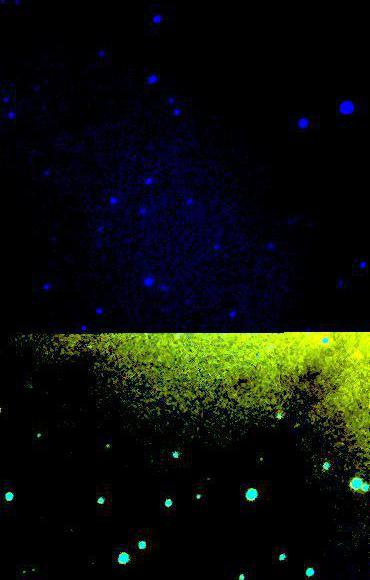star: (247, 447, 277, 477)
